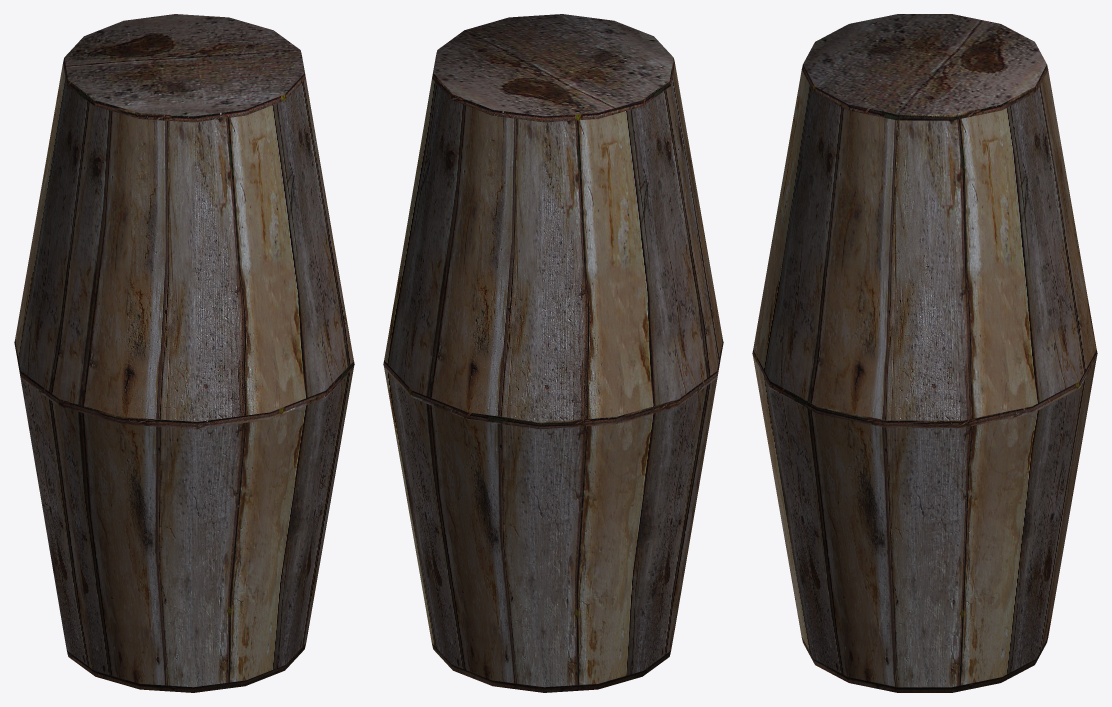
The model's file is winebarrel.fbx.
3 renders of one model, left to right at view 1: azimuth 30°, elevation 25°; view 2: azimuth 150°, elevation 25°; view 3: azimuth 270°, elevation 25°, orthographic.
Parts seen in each view (by area): view 1: Roman barrel; view 2: Roman barrel; view 3: Roman barrel.
Boxes of the visible parts, x1=… form: Roman barrel: x1=14, y1=14, x2=354, y2=692; Roman barrel: x1=383, y1=14, x2=723, y2=692; Roman barrel: x1=752, y1=14, x2=1097, y2=692.
Size of the model in its own units: 1.82 by 3.44 by 1.86.
1 material, 1 textured.
